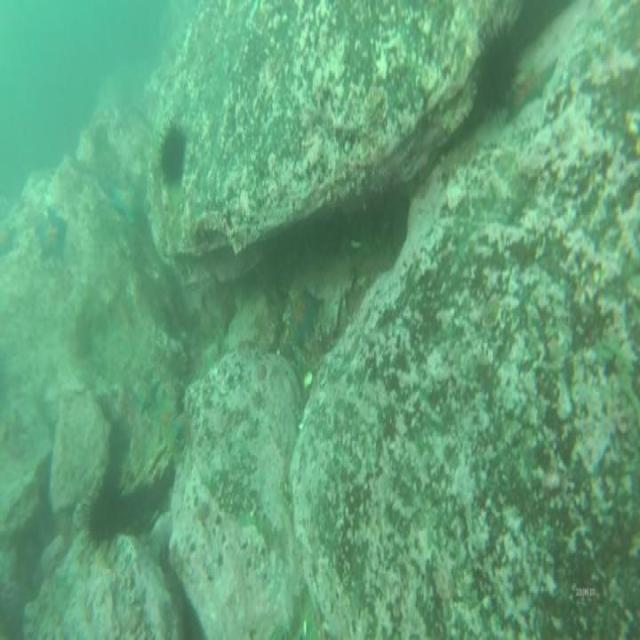echinus: (470, 16, 521, 118), (84, 481, 129, 548), (154, 115, 189, 188)
starfish: (34, 199, 68, 264), (287, 286, 325, 343), (111, 180, 145, 228), (132, 376, 159, 414)
